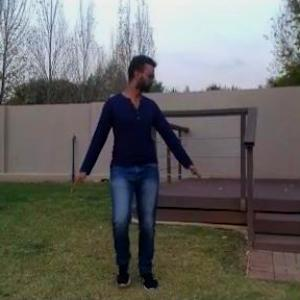land: (76, 52, 198, 286)
